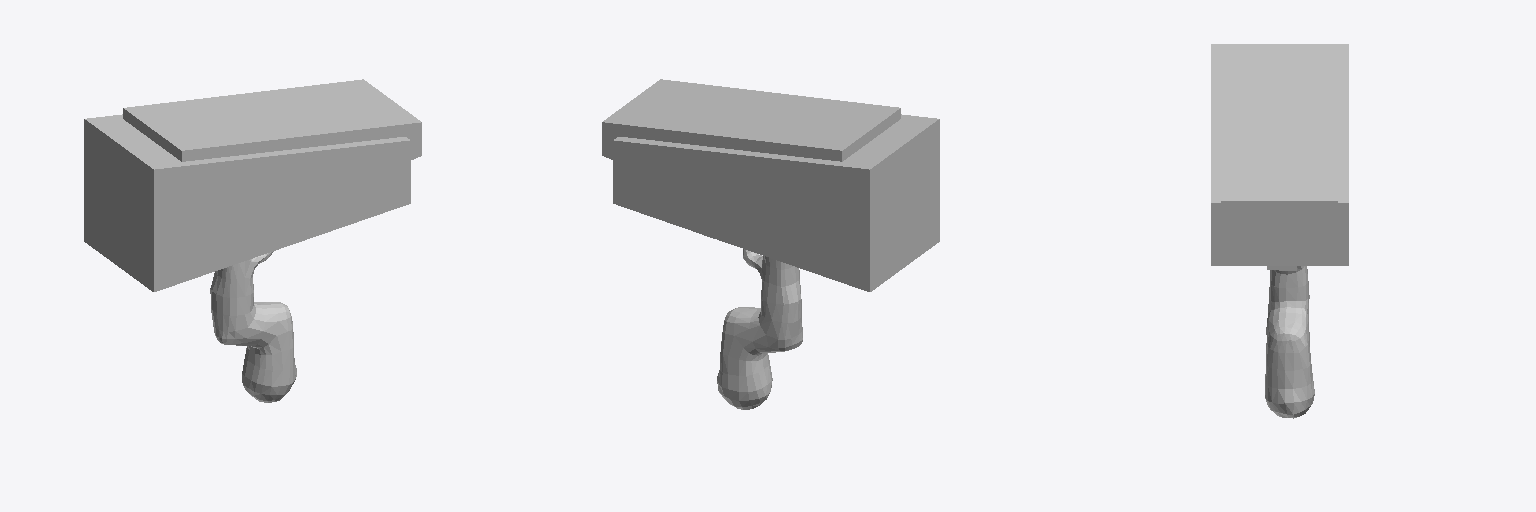
The model's file is tree3.obj.
3 views of the same model, side by side, from view 1: azimuth 30°, elevation 25°; view 2: azimuth 150°, elevation 25°; view 3: azimuth 270°, elevation 25° (orthographic).
Parts seen in each view (by area): view 1: tree3_Cubo_6.001; view 2: tree3_Cubo_6.001; view 3: tree3_Cubo_6.001.
Part boxes in pixels (x1,y1,x2,y2): tree3_Cubo_6.001: (84,79,421,402); tree3_Cubo_6.001: (602,79,939,409); tree3_Cubo_6.001: (1211,44,1348,418).
Bounding box in the file's own units: 11.15 × 11.83 × 4.9.